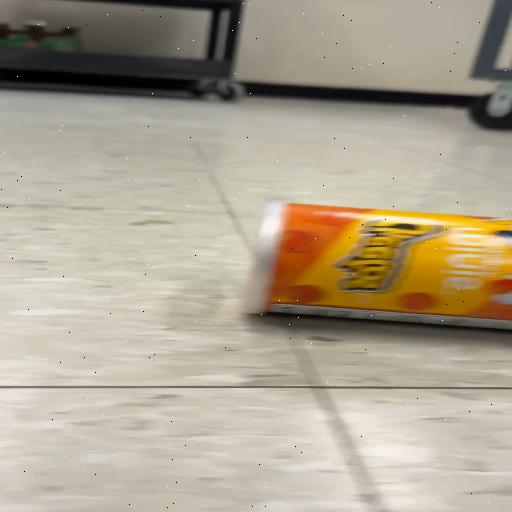pringles: (246, 201, 511, 329)
